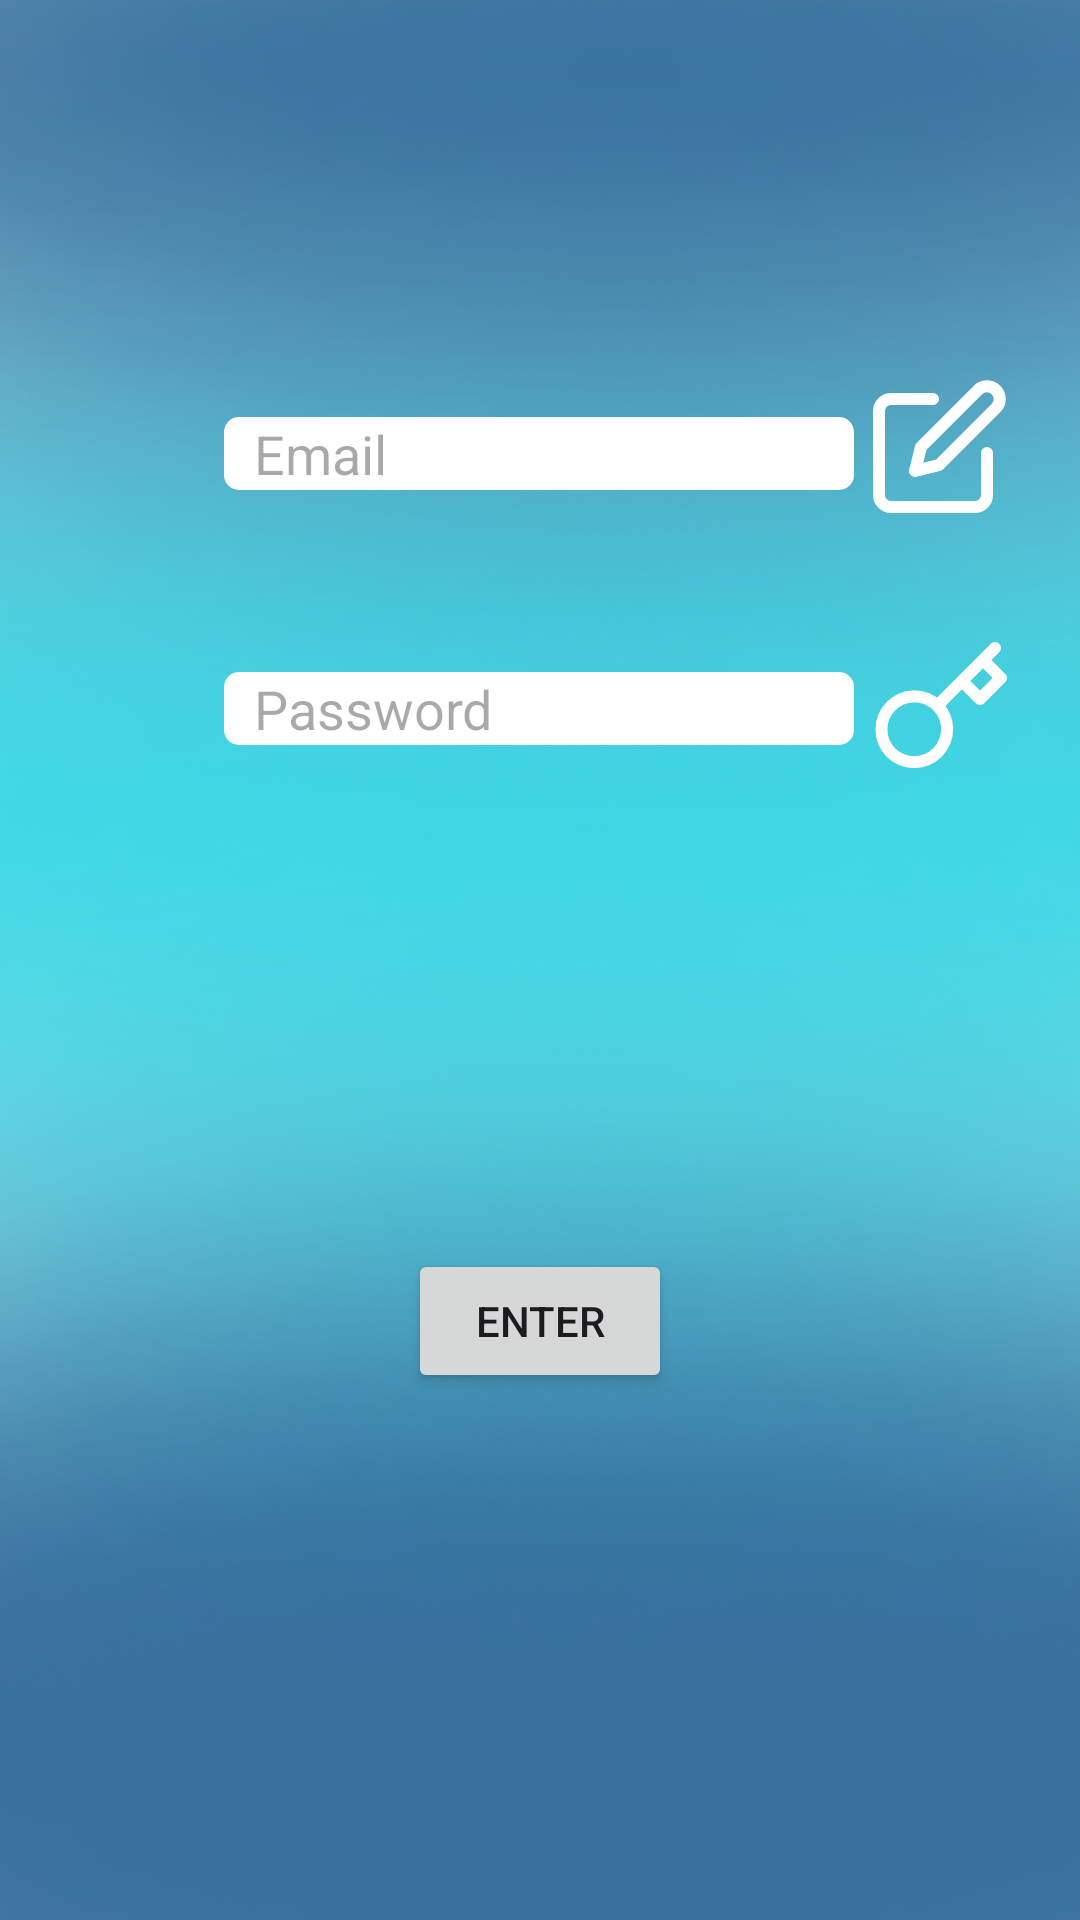

Icons on this 1080px×1920px Android screen, each with the point to tap as point (x, y):
keypass: point (941, 705)
penciledit: point (940, 451)
